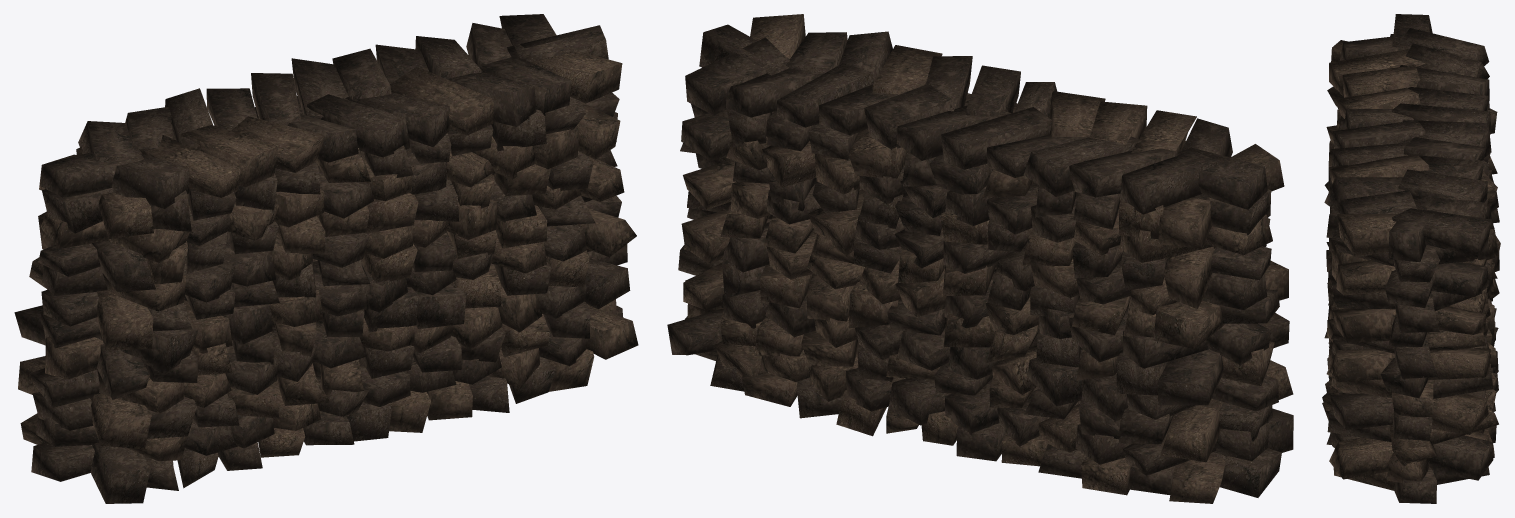
File: kit_lw_peat_wall_p.glb
3 renders of one model, left to right at view 1: azimuth 30°, elevation 25°; view 2: azimuth 150°, elevation 25°; view 3: azimuth 270°, elevation 25°, orthographic. The views are drawn at different scales.
Visible parts, largest first — view 1: kit_lw_peat_wall_p; view 2: kit_lw_peat_wall_p; view 3: kit_lw_peat_wall_p.
Boxes of the visible parts, x1,y1,x2,y2 form: kit_lw_peat_wall_p: (14,14,638,503); kit_lw_peat_wall_p: (667,14,1293,503); kit_lw_peat_wall_p: (1322,14,1500,503).
Size of the model in its own units: 2.39 by 1.27 by 0.7464.
1 material, 1 textured.
